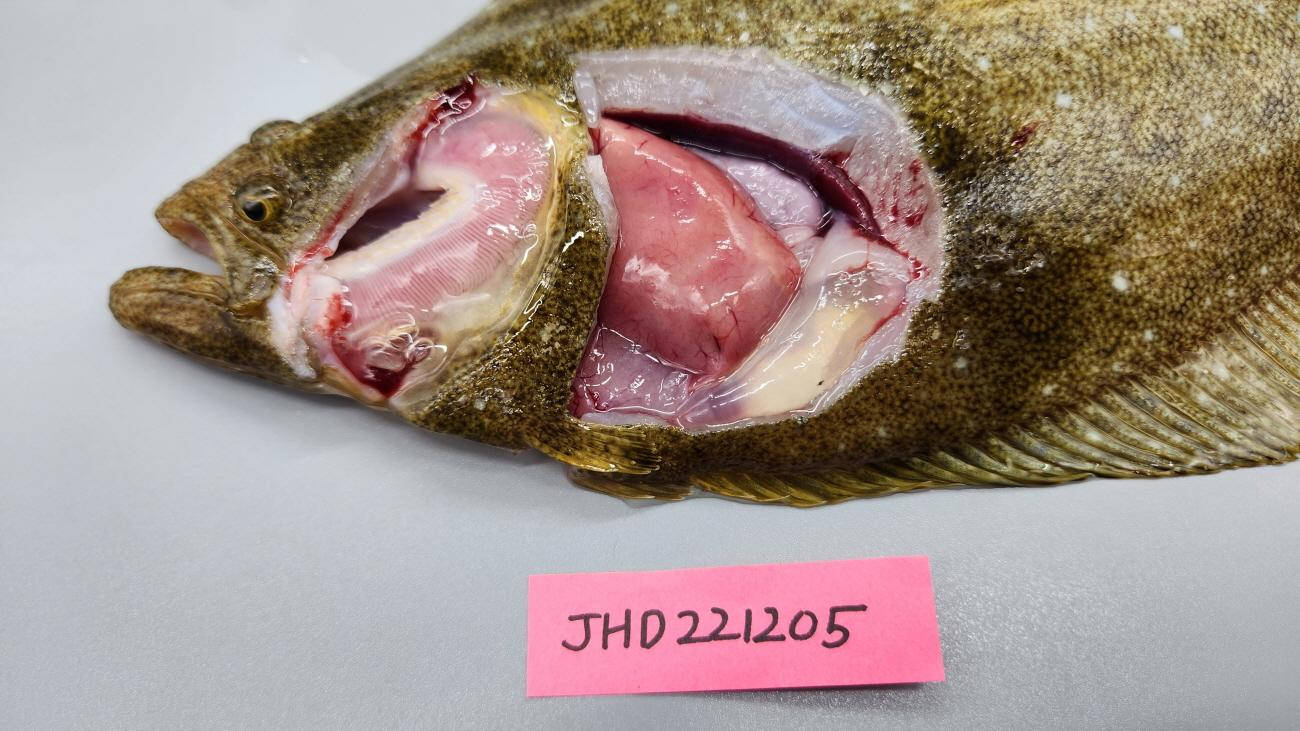MAGIN: (504, 145, 556, 233)
MAGIP: (346, 191, 526, 340)
